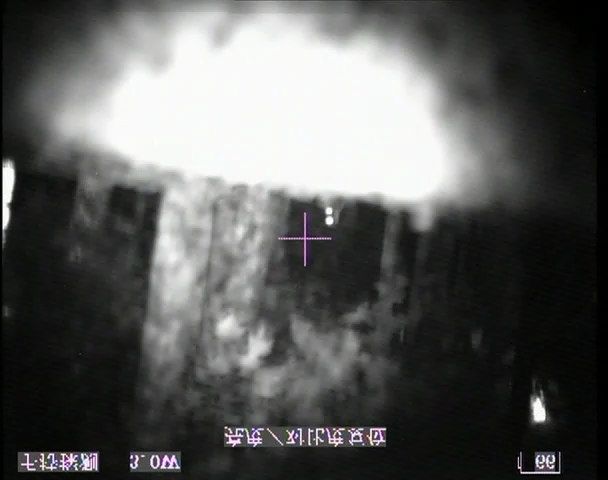my: (325, 216, 334, 226), (324, 206, 334, 215)
